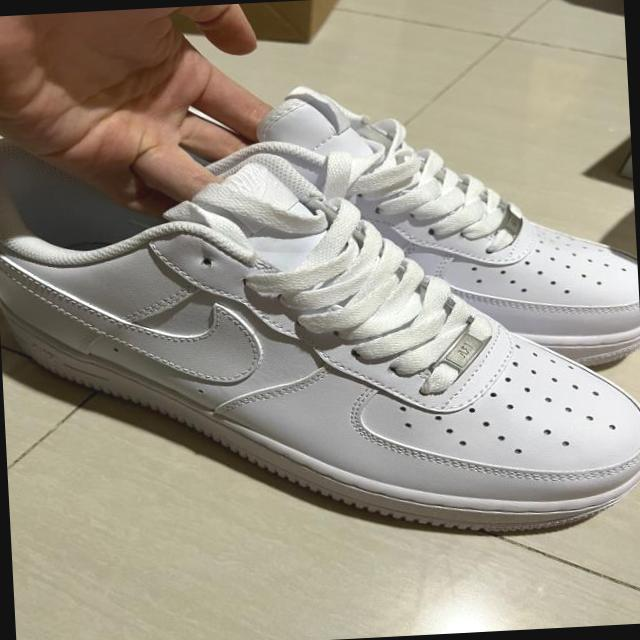nike_original_airforce: (0, 103, 640, 563), (187, 64, 640, 389)
